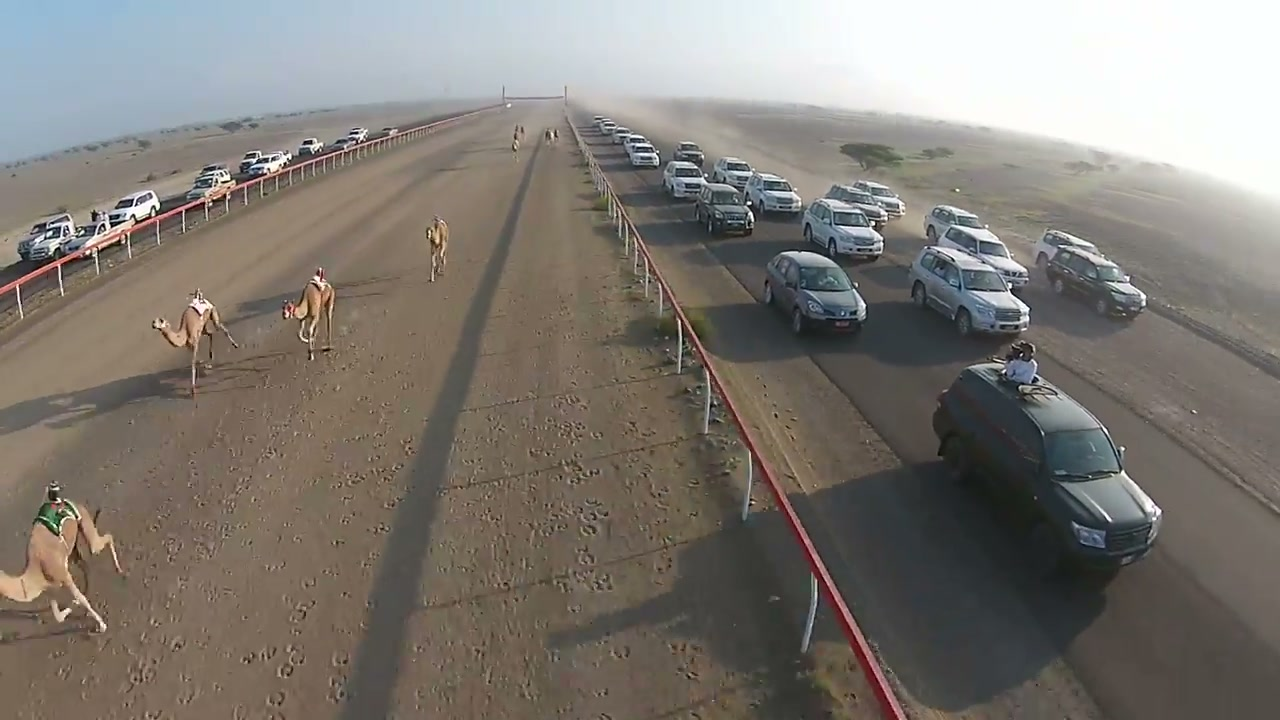animal_footprint: (257, 371, 420, 702), (120, 395, 297, 698)
